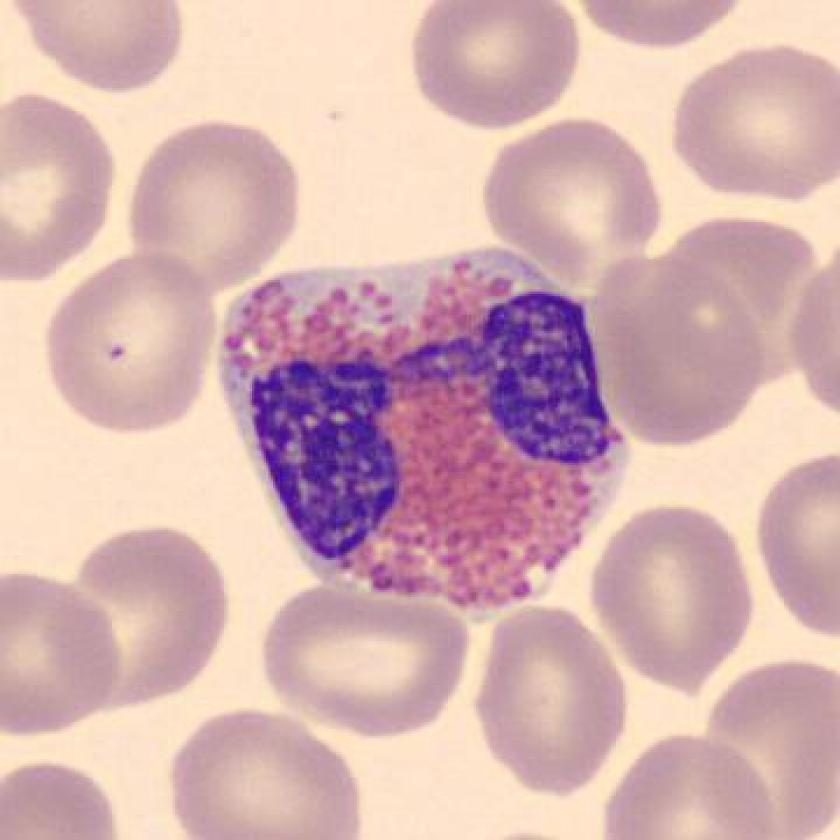eosinophil: (204, 237, 640, 630)
